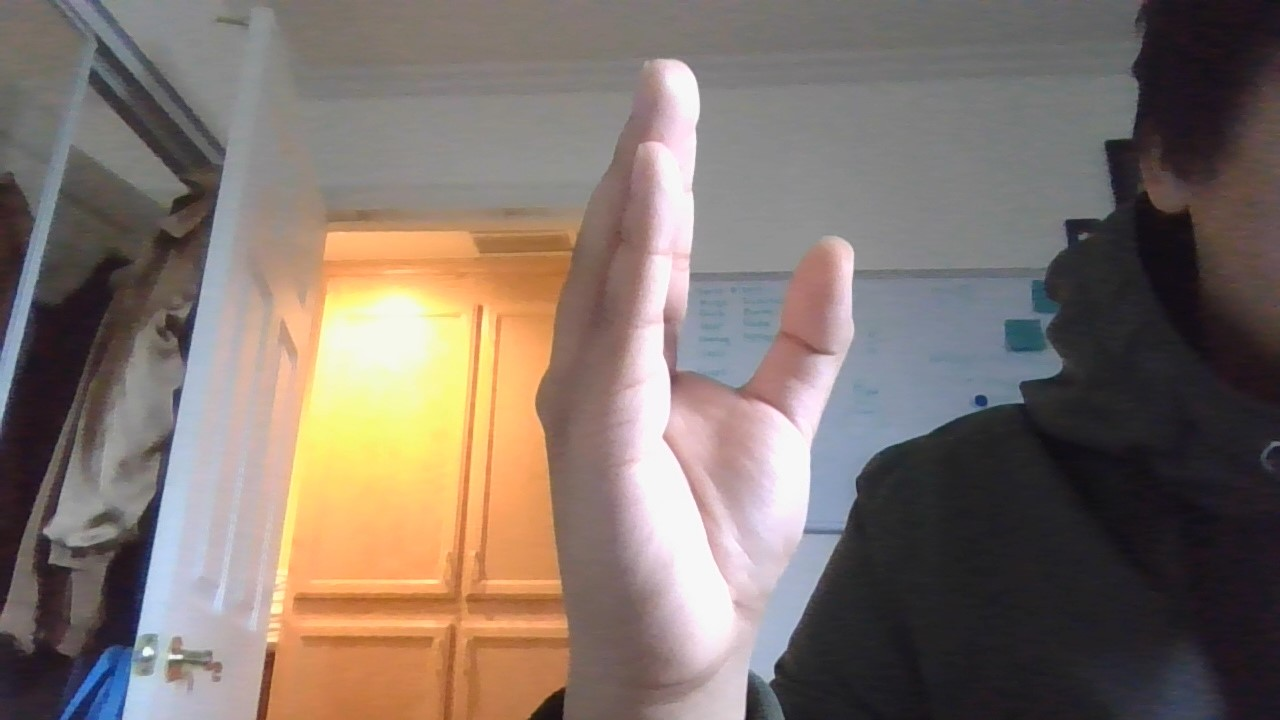j: (464, 38, 888, 703)
